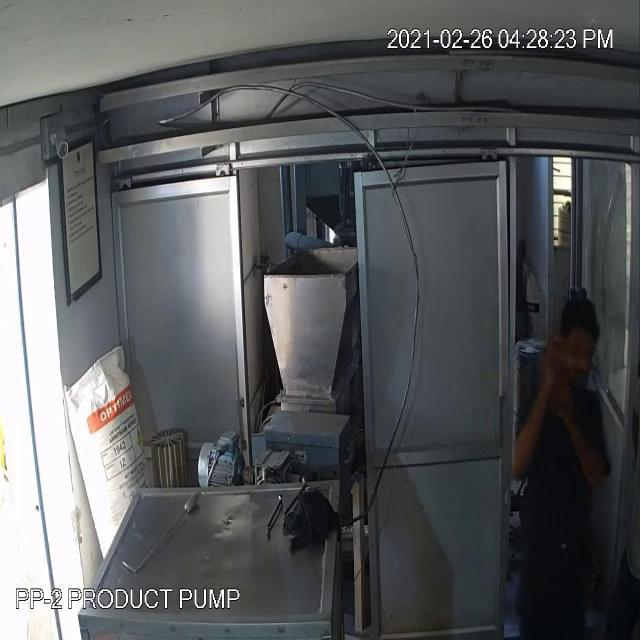no-helmet: (546, 291, 607, 369)
